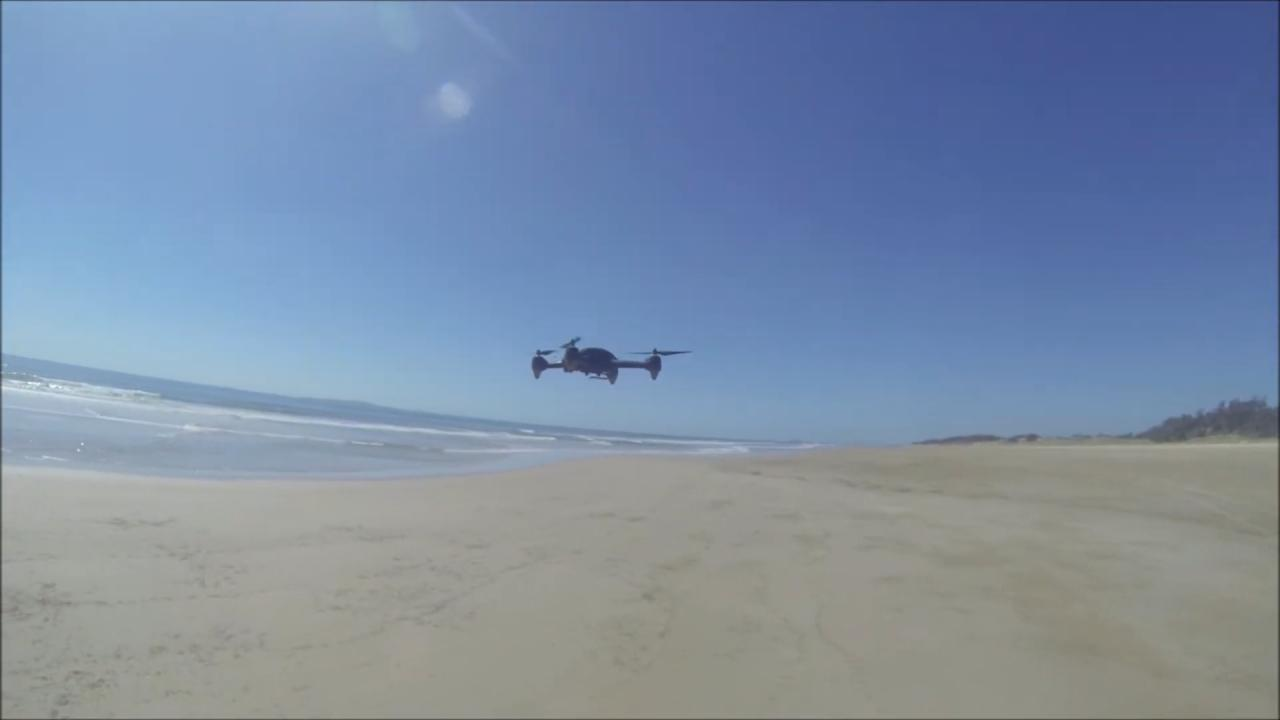Drone: (506, 325, 702, 393)
